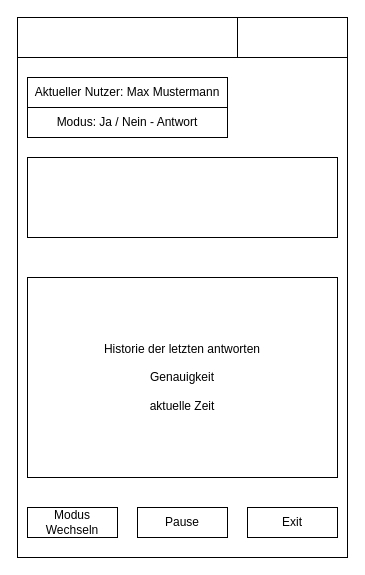
Some shapes in this 365 by 575 pixel diagram are drawn without their labels. The shapes that lost their labels are listed below. From the top down, each one's centre as x and y in pixels, then its label:
[127,37]: EEG - Kommunikationssystem
[292,37]: Profile / Options
[182,197]: [Statusanzeige: Errors und Verbindungstaus]
